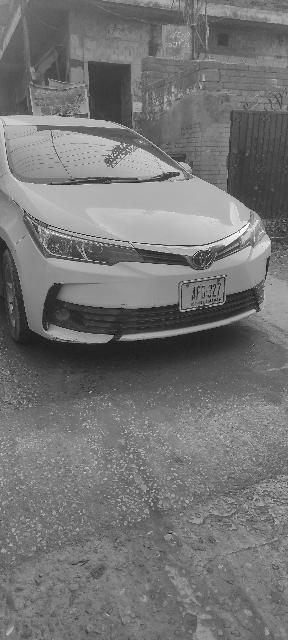Number: (190, 281, 222, 301)
